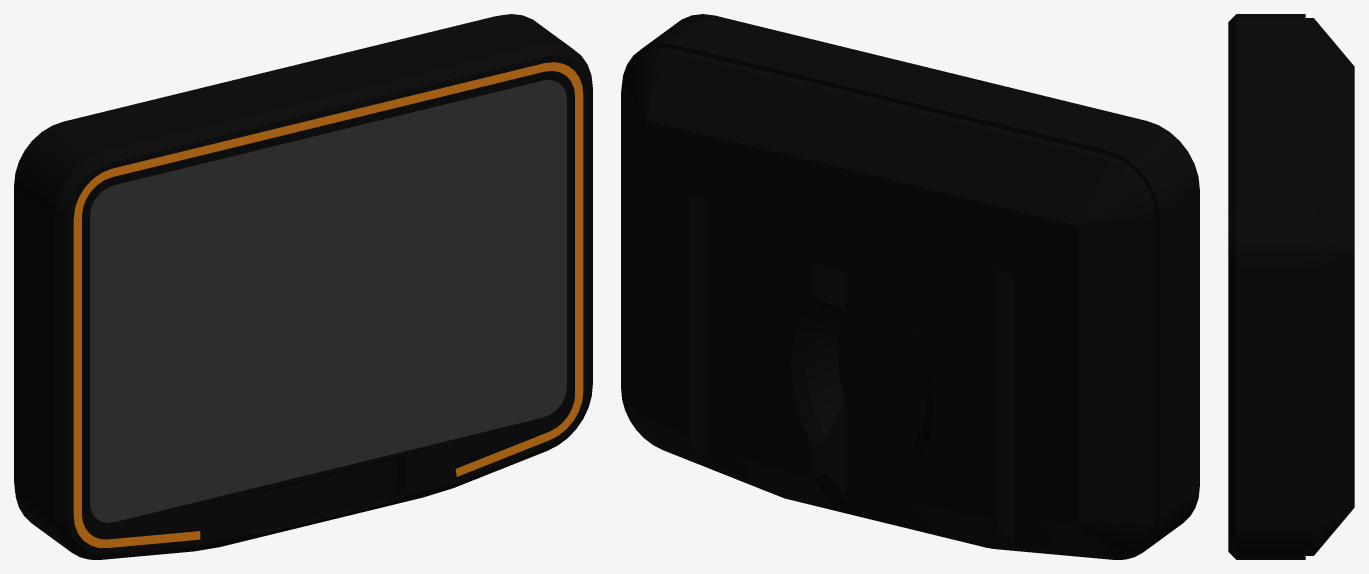
Rendered from Synect_Vision.glb.
3 views of the same model, side by side, from view 1: azimuth 30°, elevation 25°; view 2: azimuth 150°, elevation 25°; view 3: azimuth 270°, elevation 25° (orthographic). The views are drawn at different scales.
Visible parts, largest first — view 1: Solid3, Solid1, Solid2, Solid4; view 2: Solid4, Solid1; view 3: Solid1, Solid4.
Boxes of the visible parts, x1,y1,x2,y2 form: Solid3: (90,80,566,522); Solid1: (14,14,592,559); Solid2: (73,62,583,547); Solid4: (14,16,496,492); Solid4: (621,47,1155,558); Solid1: (622,14,1199,559); Solid1: (1228,14,1305,559); Solid4: (1305,18,1354,555).
Size of the model in its own units: 0.132 by 0.1 by 0.031.
